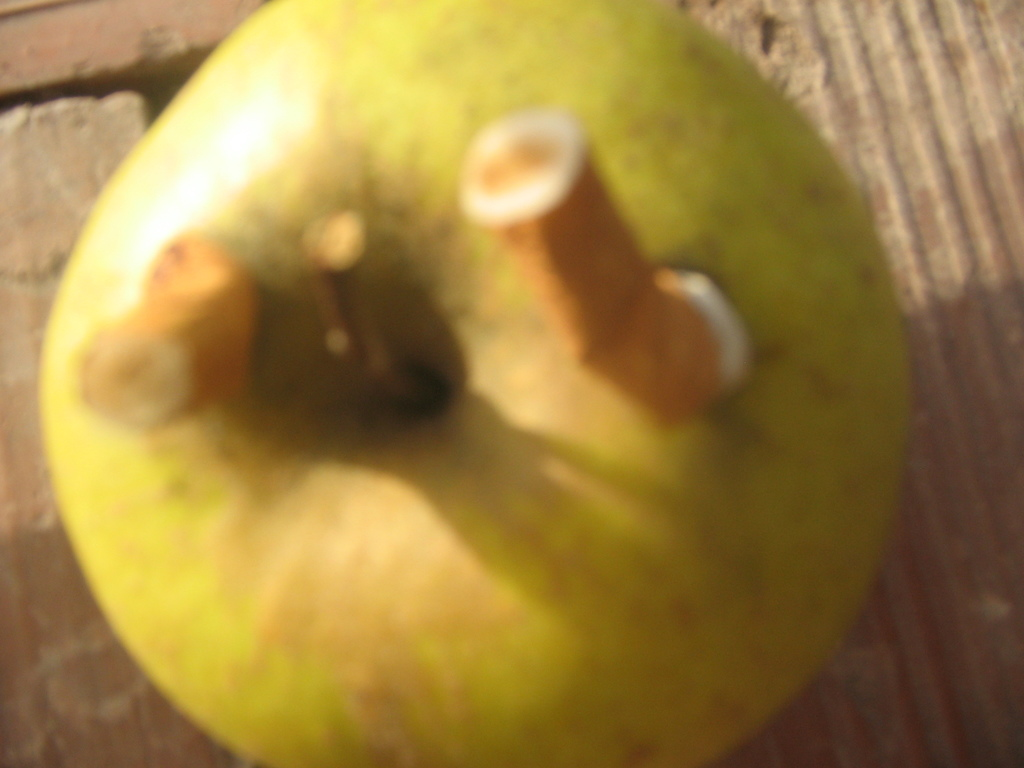Apple: (32, 14, 936, 768)
